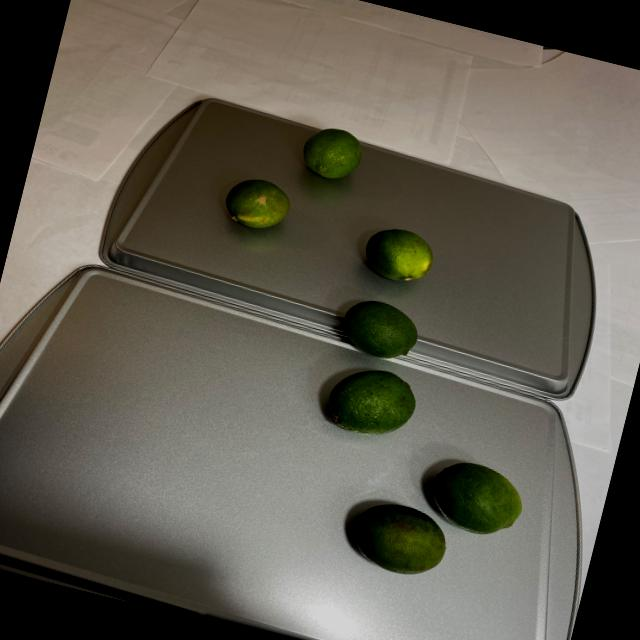lemon: (144, 105, 604, 604)
